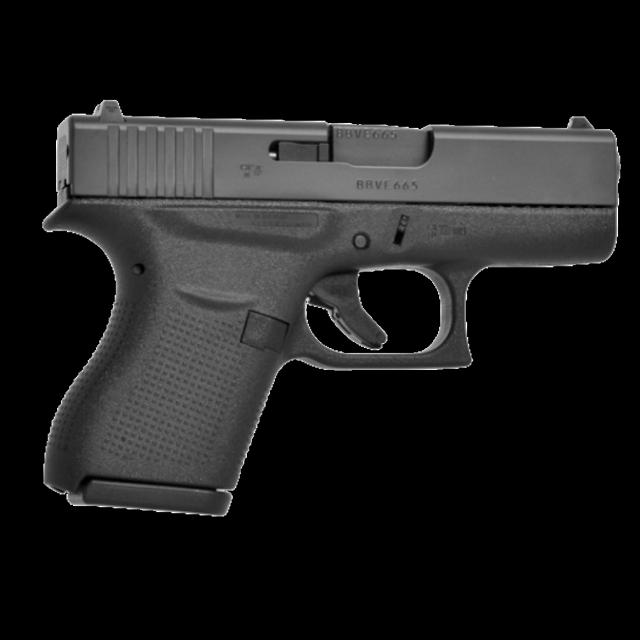Weapon: (43, 101, 619, 514)
